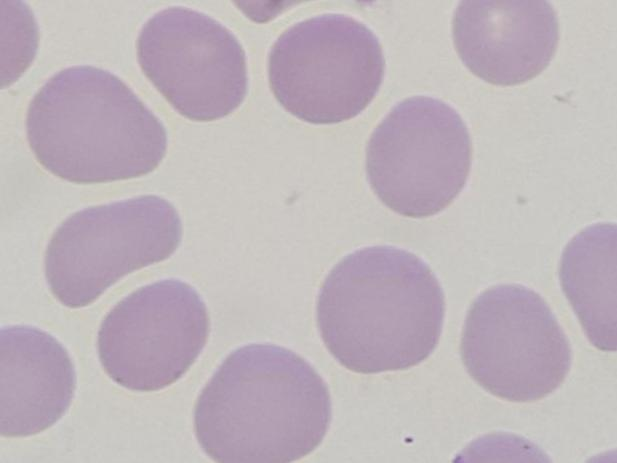Uninfected: (319, 244, 446, 374), (196, 344, 332, 463), (26, 68, 167, 182), (46, 195, 179, 309), (135, 5, 251, 126), (266, 12, 385, 125), (368, 95, 473, 220), (461, 285, 570, 403), (101, 282, 210, 396), (451, 2, 558, 89), (0, 325, 75, 437), (559, 218, 617, 354)
